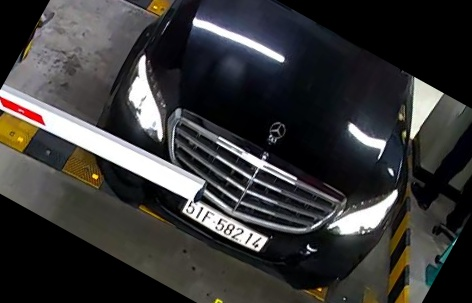plate: (176, 196, 273, 269)
